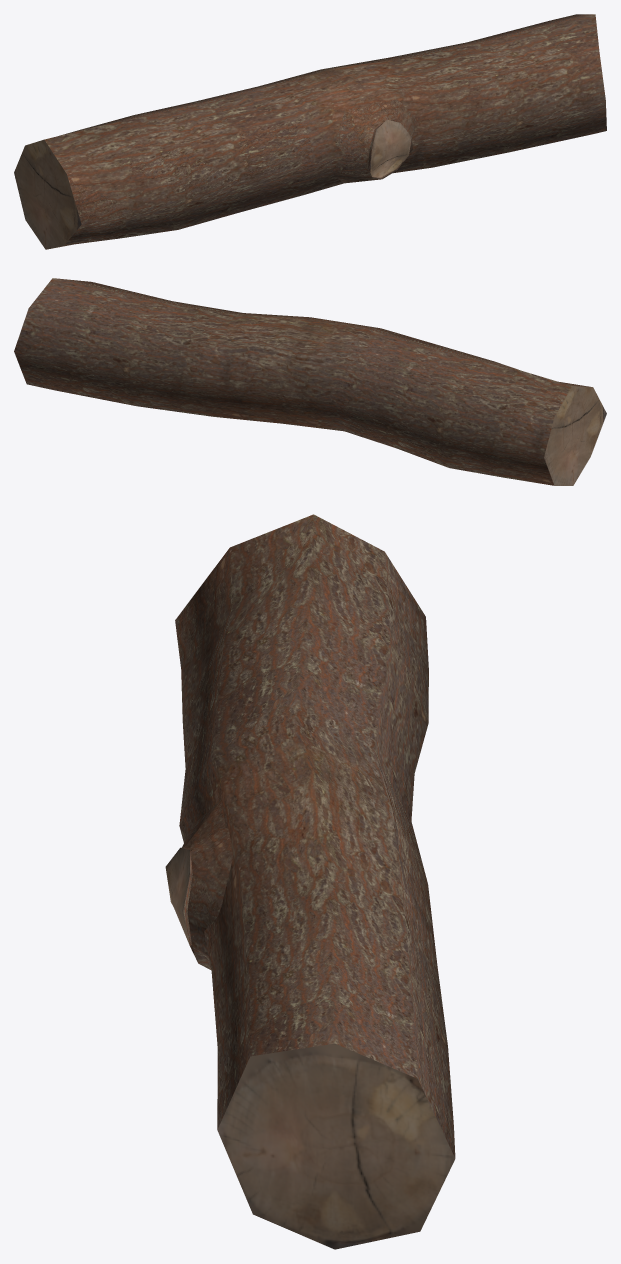
File: log1.fbx
3 views of the same model, one above another, from view 1: azimuth 30°, elevation 25°; view 2: azimuth 150°, elevation 25°; view 3: azimuth 270°, elevation 25° (orthographic). The views are drawn at different scales.
Visible parts, largest first — view 1: WoodLog_Short_03; view 2: WoodLog_Short_03; view 3: WoodLog_Short_03.
Part boxes in pixels (box(x1,y1,x2,y2)): WoodLog_Short_03: box(14, 14, 606, 249); WoodLog_Short_03: box(14, 278, 606, 485); WoodLog_Short_03: box(165, 514, 455, 1249).
Size of the model in its own units: 195 by 44.15 by 46.77.
